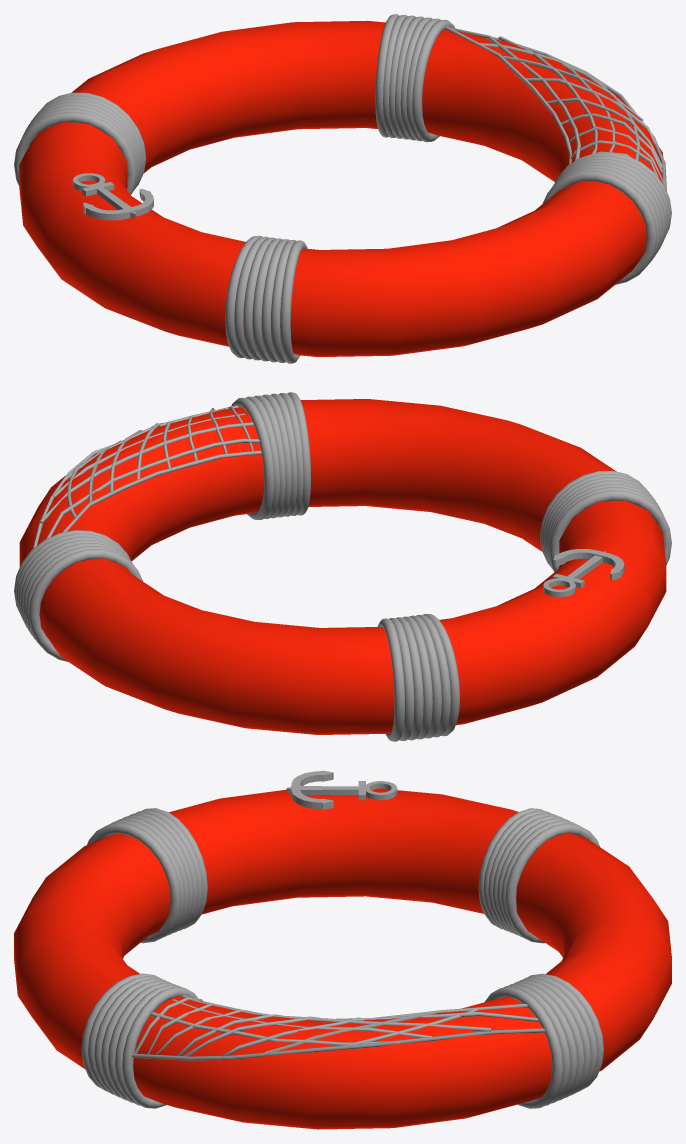
File: bouée 2.fbx
3 views of the same model, one above another, from view 1: azimuth 30°, elevation 25°; view 2: azimuth 150°, elevation 25°; view 3: azimuth 270°, elevation 25° (orthographic).
Parts seen in each view (by area): view 1: Torus025; view 2: Torus025; view 3: Torus025.
Part boxes in pixels (x1=…): Torus025: x1=14, y1=14, x2=671, y2=363; Torus025: x1=14, y1=392, x2=671, y2=741; Torus025: x1=14, y1=770, x2=671, y2=1129.
Size of the model in its own units: 1426 by 274 by 1426.
